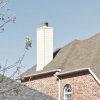Chimney: (31, 15, 56, 79)
